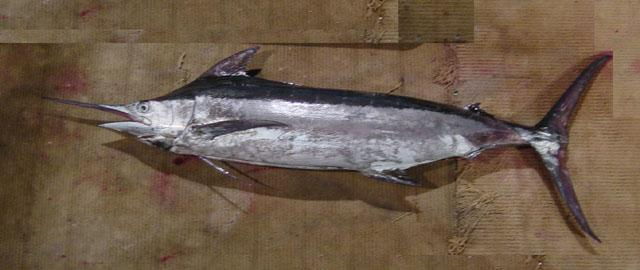Mulut: (21, 80, 156, 154)
Sirip Anal: (452, 92, 498, 174)
Sirip Dada: (185, 112, 295, 184)
Sirip Ekor: (523, 44, 621, 252)
Sirip Perut: (343, 150, 431, 200)
Sirip Punggung: (194, 38, 276, 93)
